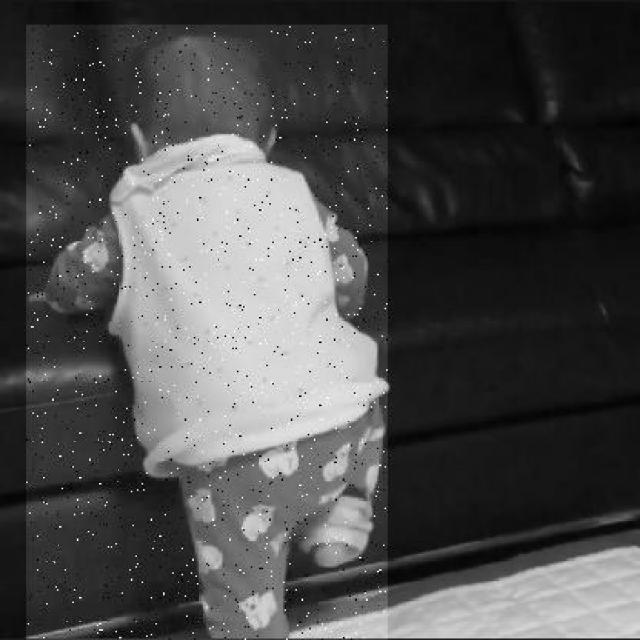child: (27, 24, 388, 640)
